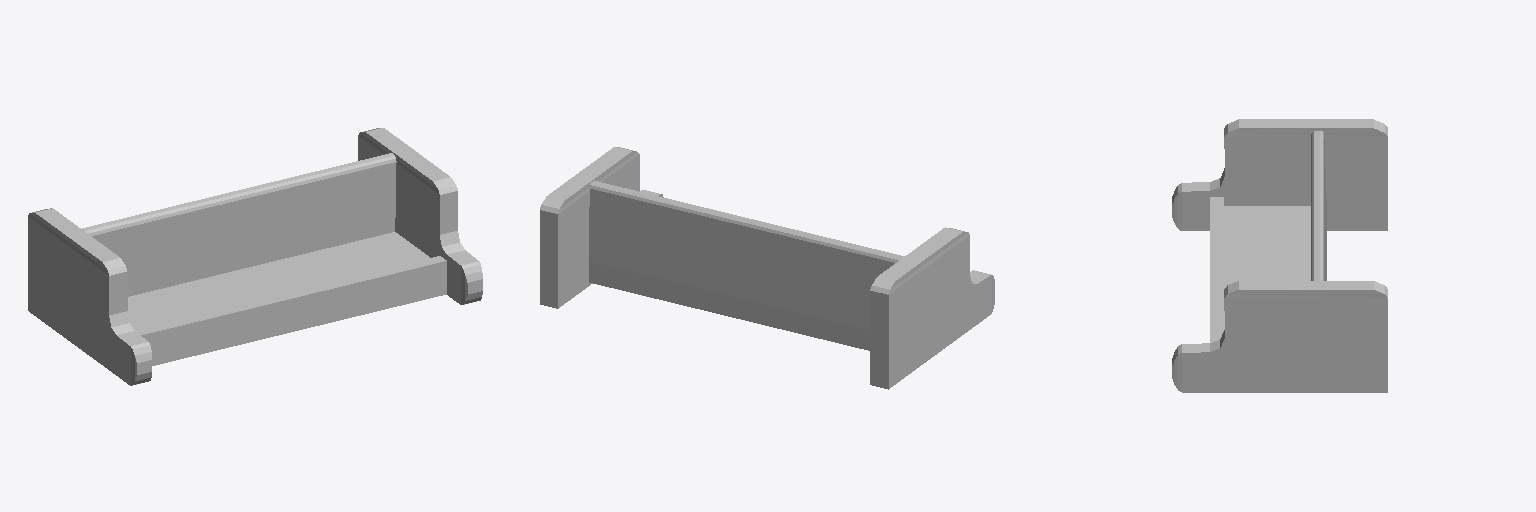
File: bench_church.obj
3 views of the same model, side by side, from view 1: azimuth 30°, elevation 25°; view 2: azimuth 150°, elevation 25°; view 3: azimuth 270°, elevation 25° (orthographic).
Parts seen in each view (by area): view 1: banco2.004_Cube.325; view 2: banco2.004_Cube.325; view 3: banco2.004_Cube.325.
Boxes of the visible parts, x1=… form: banco2.004_Cube.325: x1=28, y1=128, x2=482, y2=385; banco2.004_Cube.325: x1=540, y1=147, x2=994, y2=389; banco2.004_Cube.325: x1=1172, y1=119, x2=1387, y2=392.
Bounding box in the file's own units: 0.9751 × 0.2752 × 0.5219.